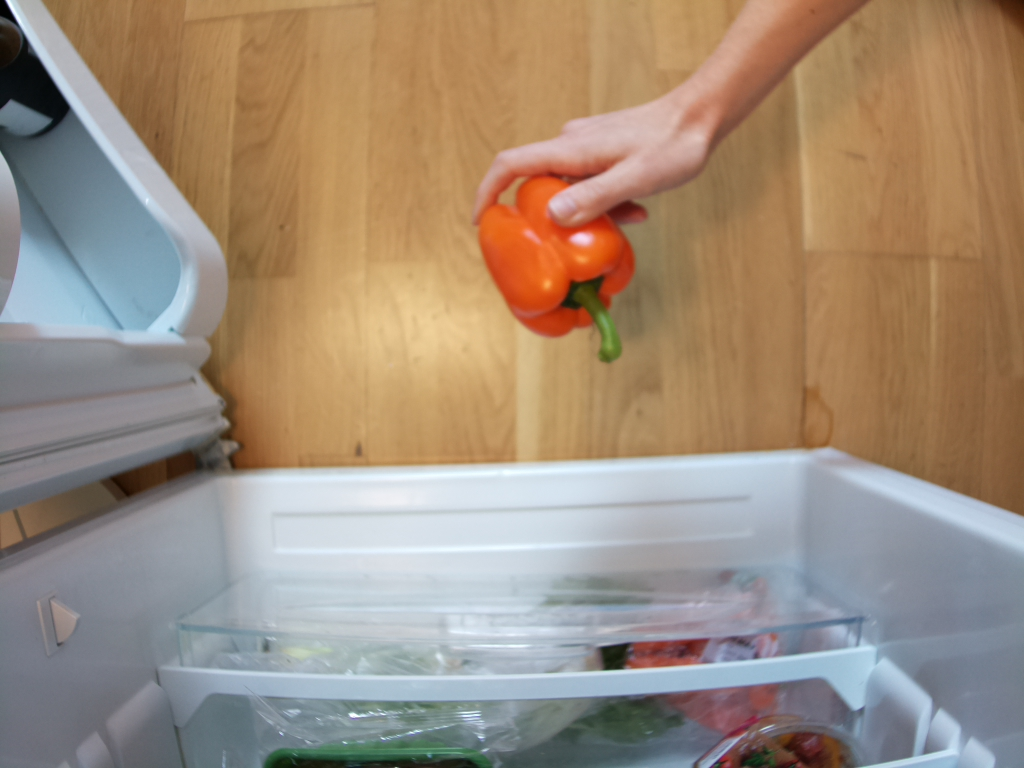pepper: (476, 178, 635, 365)
